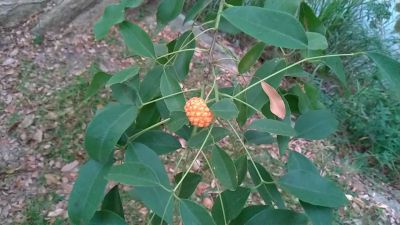eggs: (185, 93, 211, 130)
